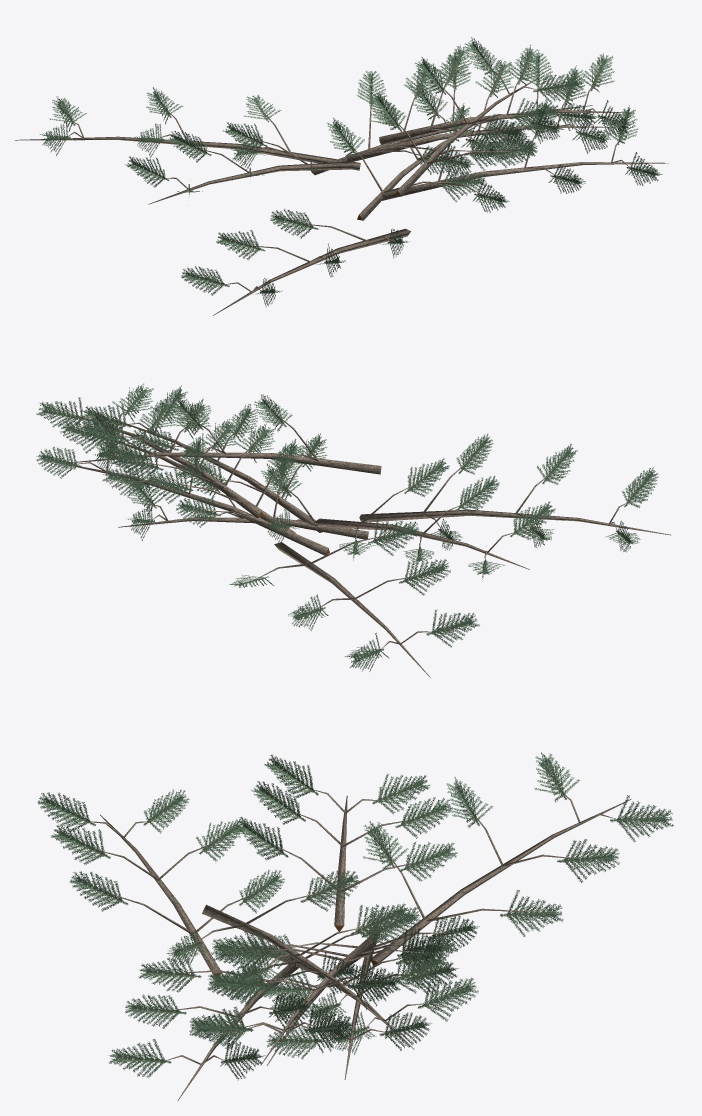
The model's file is SS_Brash_Green_01_LOD2.fbx.
3 renders of one model, top to bottom at view 1: azimuth 30°, elevation 25°; view 2: azimuth 150°, elevation 25°; view 3: azimuth 270°, elevation 25°, orthographic. The views are drawn at different scales.
Parts seen in each view (by area): view 1: SS_Brash_Green_01_LOD2_Foliage, SS_Brash_Green_01_LOD2_Structure; view 2: SS_Brash_Green_01_LOD2_Foliage, SS_Brash_Green_01_LOD2_Structure; view 3: SS_Brash_Green_01_LOD2_Foliage, SS_Brash_Green_01_LOD2_Structure.
Boxes of the visible parts, x1=… form: SS_Brash_Green_01_LOD2_Foliage: x1=39, y1=37, x2=662, y2=307; SS_Brash_Green_01_LOD2_Structure: x1=15, y1=59, x2=668, y2=315; SS_Brash_Green_01_LOD2_Foliage: x1=36, y1=383, x2=658, y2=671; SS_Brash_Green_01_LOD2_Structure: x1=65, y1=409, x2=670, y2=677; SS_Brash_Green_01_LOD2_Foliage: x1=37, y1=752, x2=673, y2=1080; SS_Brash_Green_01_LOD2_Structure: x1=88, y1=789, x2=631, y2=1100.
Size of the model in its own units: 599 by 147 by 520.
